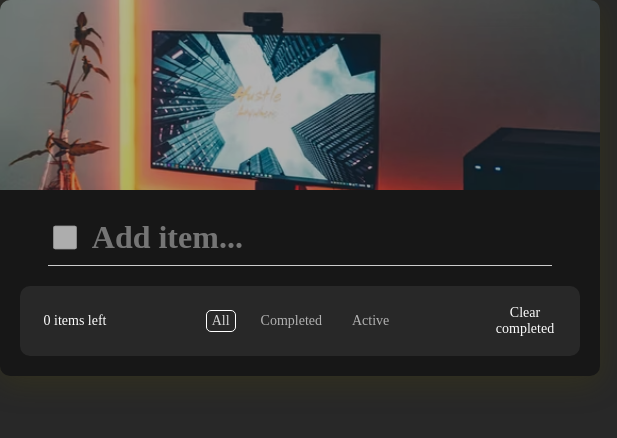
Scenario: ToDoListContainer › should add an active todo item to list by submitting
Type "Learn Redux" into the field with test id "input" at (312, 238), box [77,220,547,255]
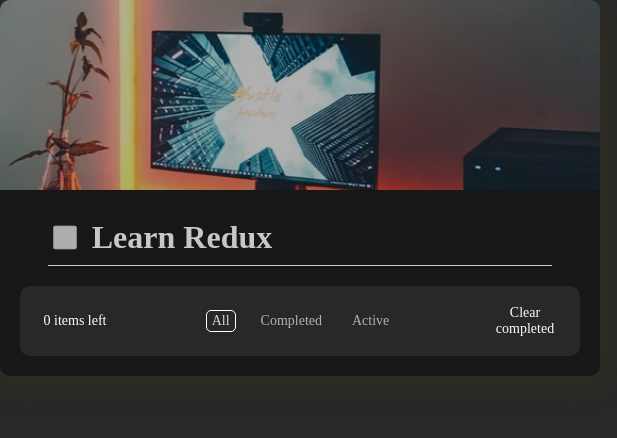
Submit the form from the button with test id "submit", box [0,190,600,376]
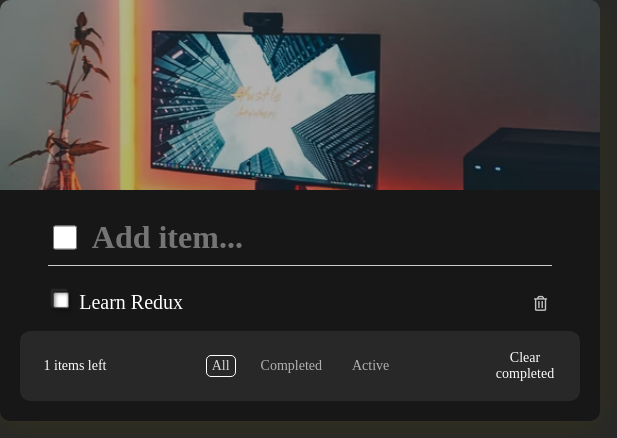
Now the checkbox with test id "list-item-checkbox" is not checked, box [53,291,69,309]
Now the label with test id "list-item-text" reads "Learn Redux", box [79,291,183,313]
Now the text with test id "footer-counter" reads "1 items left", box [44,358,106,373]
